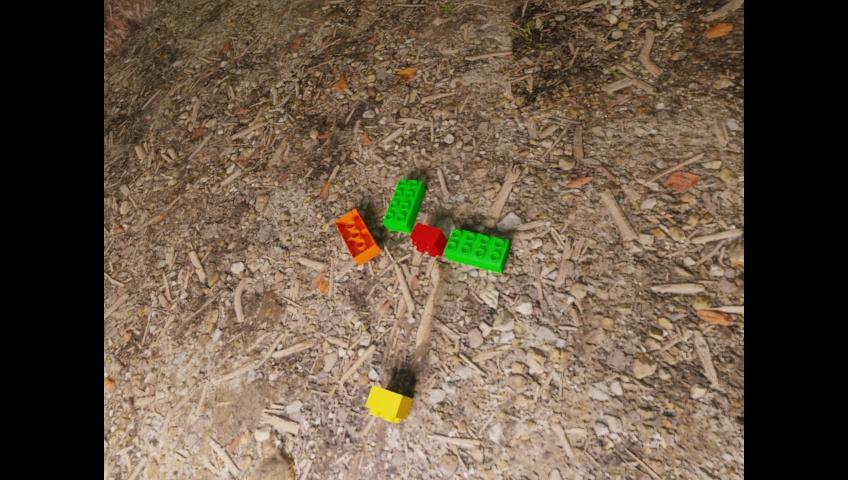2x2_red: (409, 221, 447, 257)
2x2_yellow: (365, 384, 412, 422)
4x2_green: (443, 227, 509, 273), (382, 178, 425, 232)
4x2_orange: (334, 208, 381, 265)
